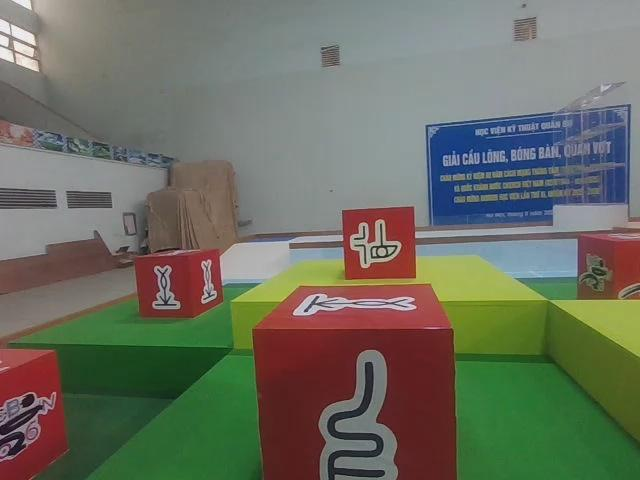R1: (0, 341, 73, 480), (574, 228, 640, 309)
R2 Fake: (251, 284, 458, 480)
R2 Real: (135, 248, 225, 318), (343, 207, 417, 280)
